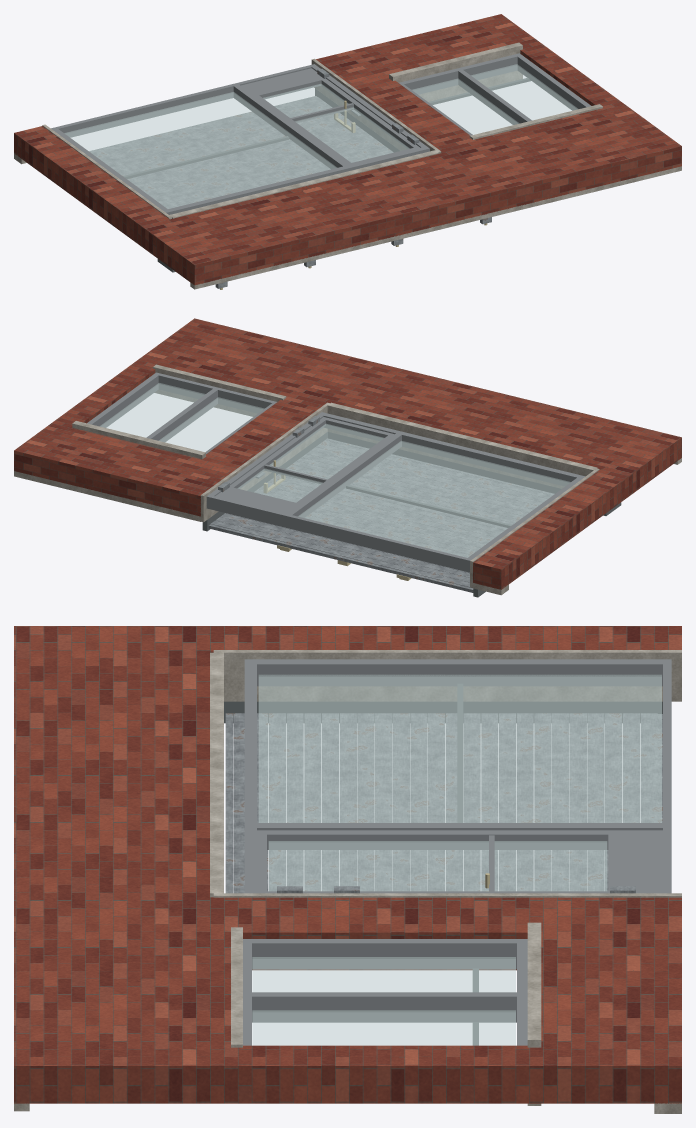
Rendered from PROJECT_Z_BrickStorefront.glb.
The picture shows the model from 3 angles, top to bottom: view 1: azimuth 30°, elevation 25°; view 2: azimuth 150°, elevation 25°; view 3: azimuth 270°, elevation 25°; orthographic projection. The views are drawn at different scales.
Visible parts, largest first — view 1: RENDER_SM_Brick_UpperBeam, RENDER_SM_MainDisplay_BreakableGlass, RENDER_SM_Shutter_CorrugatedCurtain_Animated, RENDER_SM_BrickPier_Left, RENDER_SM_Storefront_AluminumOuterFrame, RENDER_SM_DoorLeaf_BreakableGlass, RENDER_SM_BrickPier_Divider, RENDER_SM_RightWindow_AluminiumFrame, RENDER_SM_Brick_WindowSpandrel, RENDER_SM_Opening_ConcreteReveals, RENDER_SM_DoorLeaf_Frame_Animated, RENDER_SM_BrickPier_Right (+7 smaller); view 2: RENDER_SM_Brick_UpperBeam, RENDER_SM_Shutter_CorrugatedCurtain_Animated, RENDER_SM_MainDisplay_BreakableGlass, RENDER_SM_Storefront_AluminumOuterFrame, RENDER_SM_BrickPier_Left, RENDER_SM_Brick_WindowSpandrel, RENDER_SM_Opening_ConcreteReveals, RENDER_SM_BrickPier_Divider, RENDER_SM_DoorLeaf_BreakableGlass, RENDER_SM_RightWindow_AluminiumFrame, RENDER_SM_BrickPier_Right, RENDER_SM_DoorLeaf_Frame_Animated (+8 smaller); view 3: RENDER_SM_Brick_UpperBeam, RENDER_SM_Shutter_CorrugatedCurtain_Animated, RENDER_SM_MainDisplay_BreakableGlass, RENDER_SM_BrickPier_Right, RENDER_SM_Storefront_AluminumOuterFrame, RENDER_SM_BrickPier_Divider, RENDER_SM_RightWindow_AluminiumFrame, RENDER_SM_Opening_ConcreteReveals, RENDER_SM_DoorLeaf_BreakableGlass, RENDER_SM_BrickPier_Left, RENDER_SM_Brick_WindowSpandrel, RENDER_SM_DoorLeaf_Frame_Animated (+6 smaller).
Boxes of the visible parts, x1,y1,x2,y2 form: RENDER_SM_Brick_UpperBeam: (170,107,681,278); RENDER_SM_MainDisplay_BreakableGlass: (64,92,337,208); RENDER_SM_Shutter_CorrugatedCurtain_Animated: (89,96,393,208); RENDER_SM_BrickPier_Left: (14,126,222,285); RENDER_SM_Storefront_AluminumOuterFrame: (51,64,429,214); RENDER_SM_DoorLeaf_BreakableGlass: (263,84,409,162); RENDER_SM_BrickPier_Divider: (316,50,480,152); RENDER_SM_RightWindow_AluminiumFrame: (399,53,590,135); RENDER_SM_Brick_WindowSpandrel: (354,19,511,75); RENDER_SM_Opening_ConcreteReveals: (42,58,441,219); RENDER_SM_DoorLeaf_Frame_Animated: (241,68,419,164); RENDER_SM_BrickPier_Right: (479,14,628,112); RENDER_SM_Brick_UpperBeam: (142,318,652,469); RENDER_SM_Shutter_CorrugatedCurtain_Animated: (208,438,554,592); RENDER_SM_MainDisplay_BreakableGlass: (298,441,570,557); RENDER_SM_Storefront_AluminumOuterFrame: (206,412,585,572); RENDER_SM_BrickPier_Left: (473,430,681,589); RENDER_SM_Brick_WindowSpandrel: (36,428,199,506); RENDER_SM_Opening_ConcreteReveals: (200,402,599,587); RENDER_SM_BrickPier_Divider: (162,393,326,516); RENDER_SM_DoorLeaf_BreakableGlass: (237,423,383,502); RENDER_SM_RightWindow_AluminiumFrame: (87,372,276,453); RENDER_SM_BrickPier_Right: (14,357,163,476); RENDER_SM_DoorLeaf_Frame_Animated: (215,417,394,513); RENDER_SM_Brick_UpperBeam: (14,651,209,1103); RENDER_SM_Shutter_CorrugatedCurtain_Animated: (225,713,662,893); RENDER_SM_MainDisplay_BreakableGlass: (258,674,661,822); RENDER_SM_BrickPier_Right: (210,1045,681,1103); RENDER_SM_Storefront_AluminumOuterFrame: (244,659,671,893); RENDER_SM_BrickPier_Divider: (210,897,681,970); RENDER_SM_RightWindow_AluminiumFrame: (243,939,527,1045); RENDER_SM_Opening_ConcreteReveals: (210,650,681,897); RENDER_SM_DoorLeaf_BreakableGlass: (268,841,607,891); RENDER_SM_BrickPier_Left: (14,626,681,652); RENDER_SM_Brick_WindowSpandrel: (541,932,681,1045); RENDER_SM_DoorLeaf_Frame_Animated: (257,830,662,893).
Bounding box in the file's own units: 6 × 0.562 × 3.85.
Materials: 9 (4 with a texture image).
